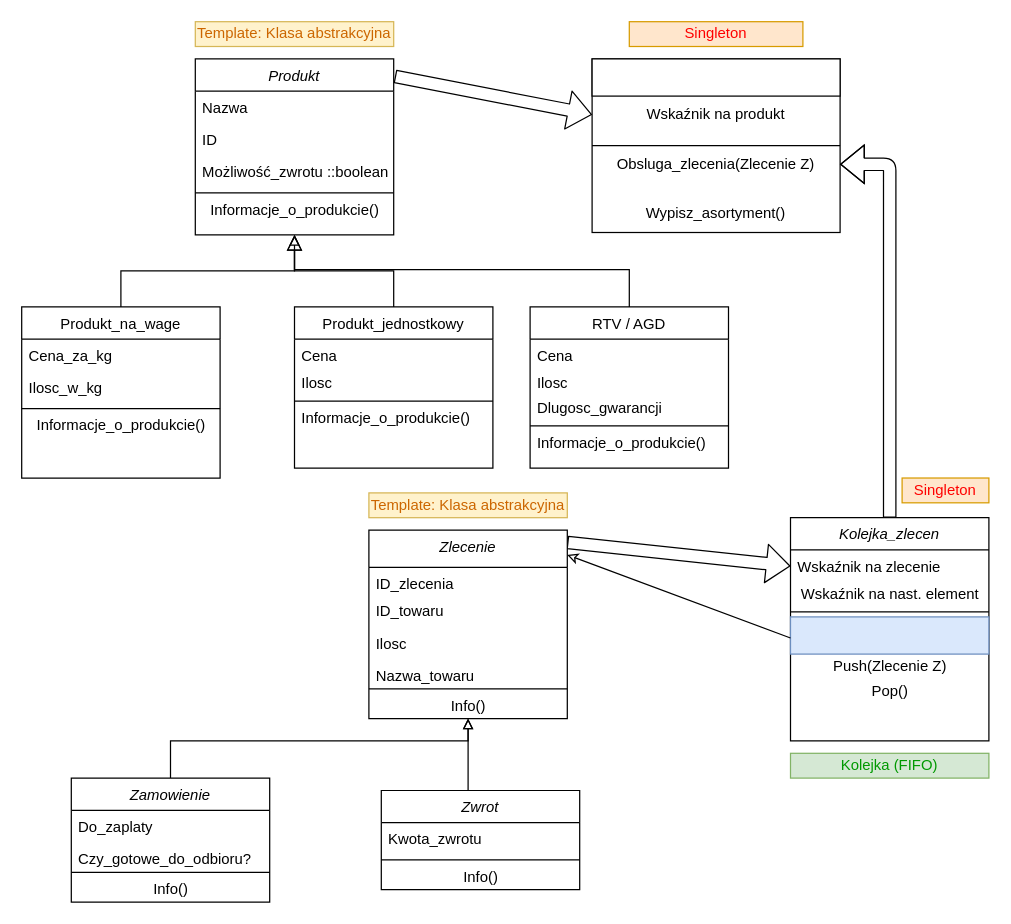
Image size: 1011x924. Some labels were removed from this diagram. Each missing label, with the centre of its shape:
"Asortyment" goes at pixel 715 77.
"Fabryka: utworz_zlecenie()" goes at pixel 889 635.
